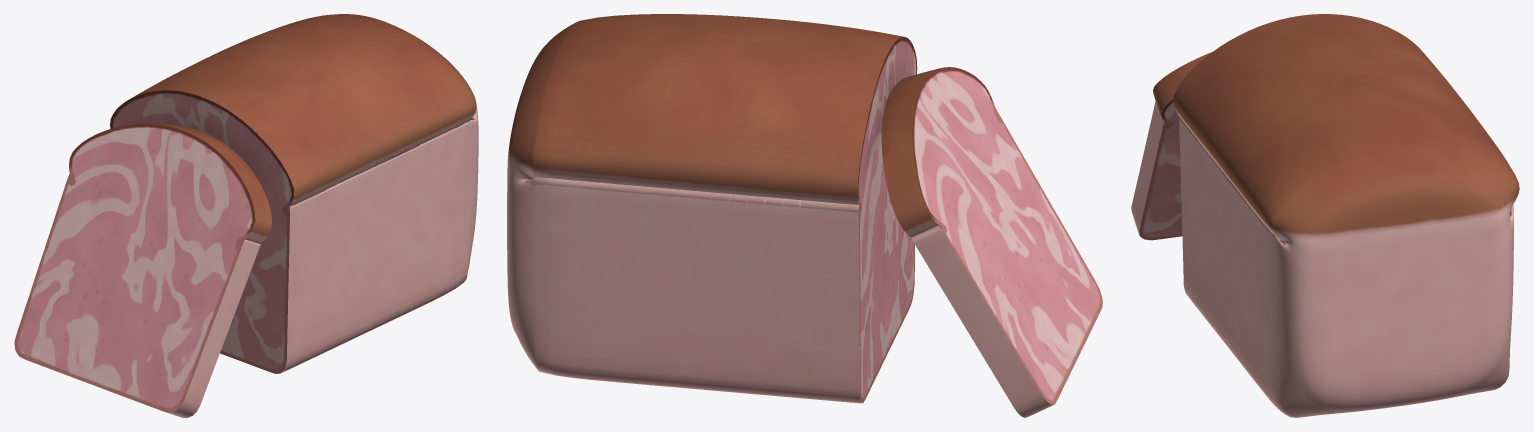
The model's file is loaf--beet-puree.glb.
3 views of the same model, side by side, from view 1: azimuth 30°, elevation 25°; view 2: azimuth 150°, elevation 25°; view 3: azimuth 270°, elevation 25° (orthographic). The views are drawn at different scales.
Visible parts, largest first — view 1: loaf_beet-puree; view 2: loaf_beet-puree; view 3: loaf_beet-puree.
Boxes of the visible parts, x1,y1,x2,y2 form: loaf_beet-puree: [14, 14, 478, 417]; loaf_beet-puree: [507, 14, 1102, 417]; loaf_beet-puree: [1131, 14, 1519, 417].
Bounding box in the file's own units: 1.28 × 0.7199 × 0.9091.
1 material, 1 textured.
